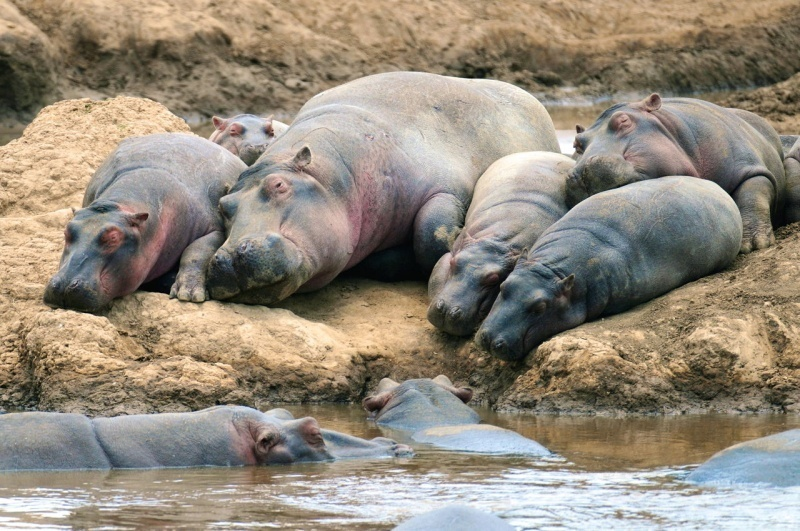hipopotamo: (201, 67, 566, 306), (481, 168, 745, 362), (38, 133, 252, 315), (569, 90, 790, 260), (0, 397, 423, 473), (425, 150, 581, 333), (359, 372, 571, 476), (201, 101, 291, 163)
